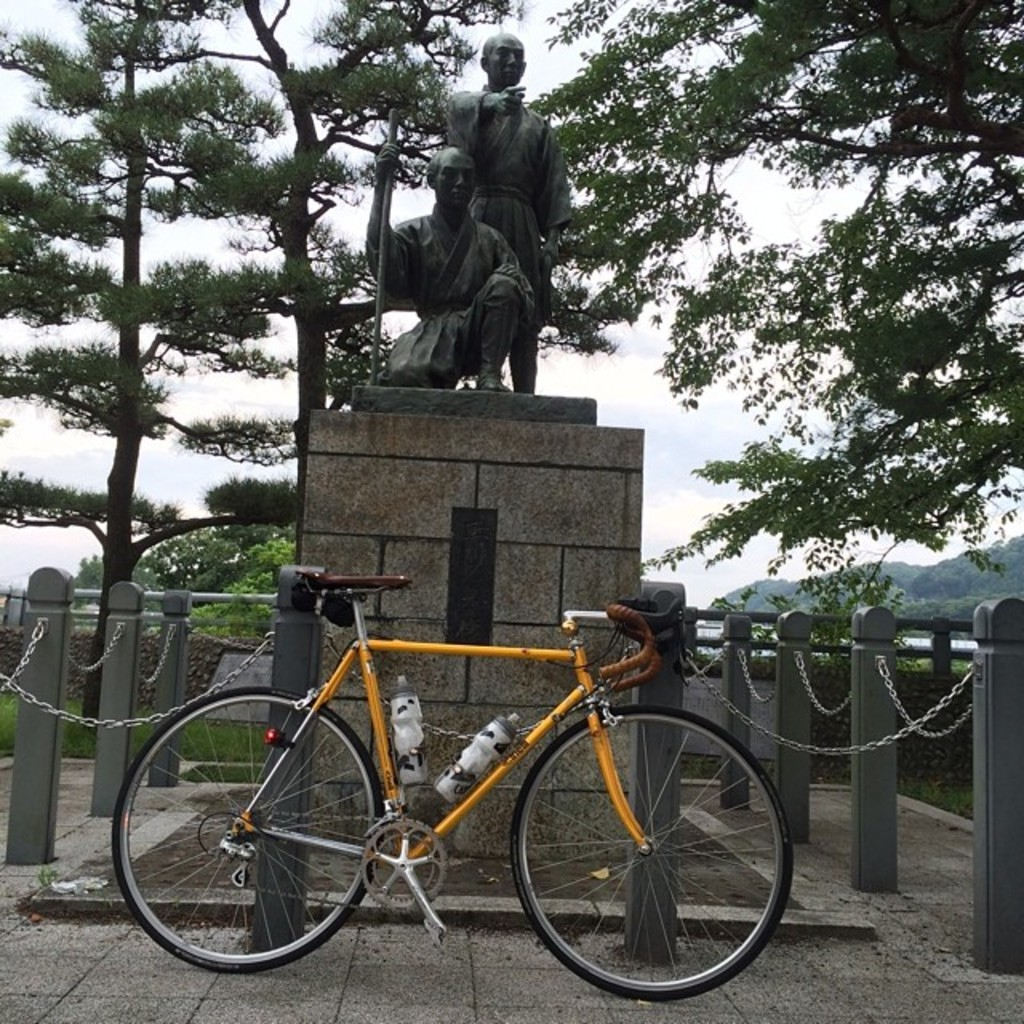Bike_toward: (89, 599, 893, 1024)
